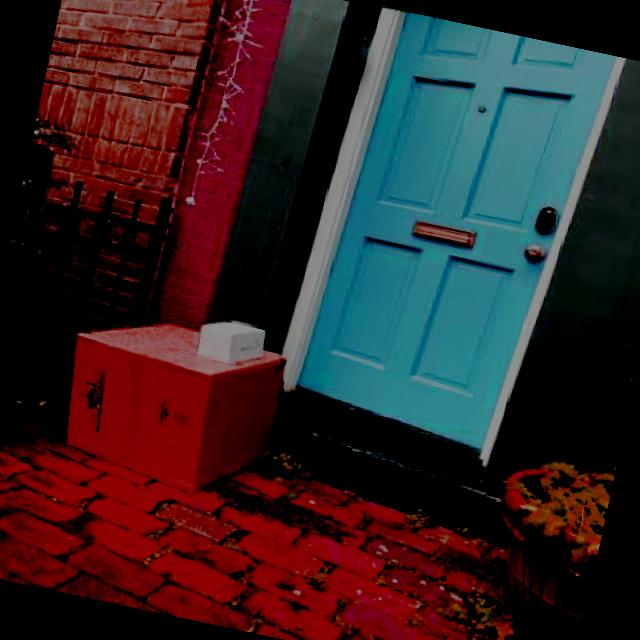Box: (45, 298, 301, 514), (186, 307, 272, 373)
